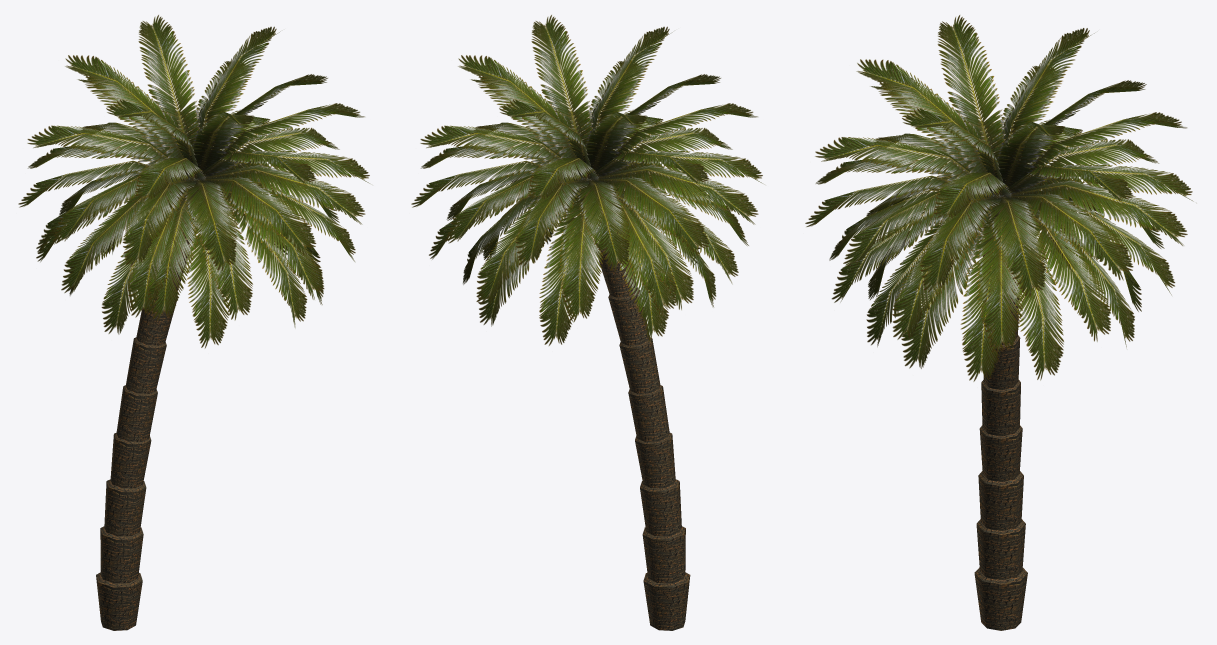
File: palm.glb
The picture shows the model from 3 angles, left to right: view 1: azimuth 30°, elevation 25°; view 2: azimuth 150°, elevation 25°; view 3: azimuth 270°, elevation 25°; orthographic projection. The views are drawn at different scales.
Parts seen in each view (by area): view 1: Palm_Trunk_Material #25_0; view 2: Palm_Trunk_Material #25_0; view 3: Palm_Trunk_Material #25_0.
Part boxes in pixels (box(x1,y1,x2,y2)): Palm_Trunk_Material #25_0: box(18, 15, 369, 630); Palm_Trunk_Material #25_0: box(411, 15, 762, 630); Palm_Trunk_Material #25_0: box(805, 15, 1193, 630).
Size of the model in its own units: 279 by 459 by 279.
Materials: 1 (1 with a texture image).
